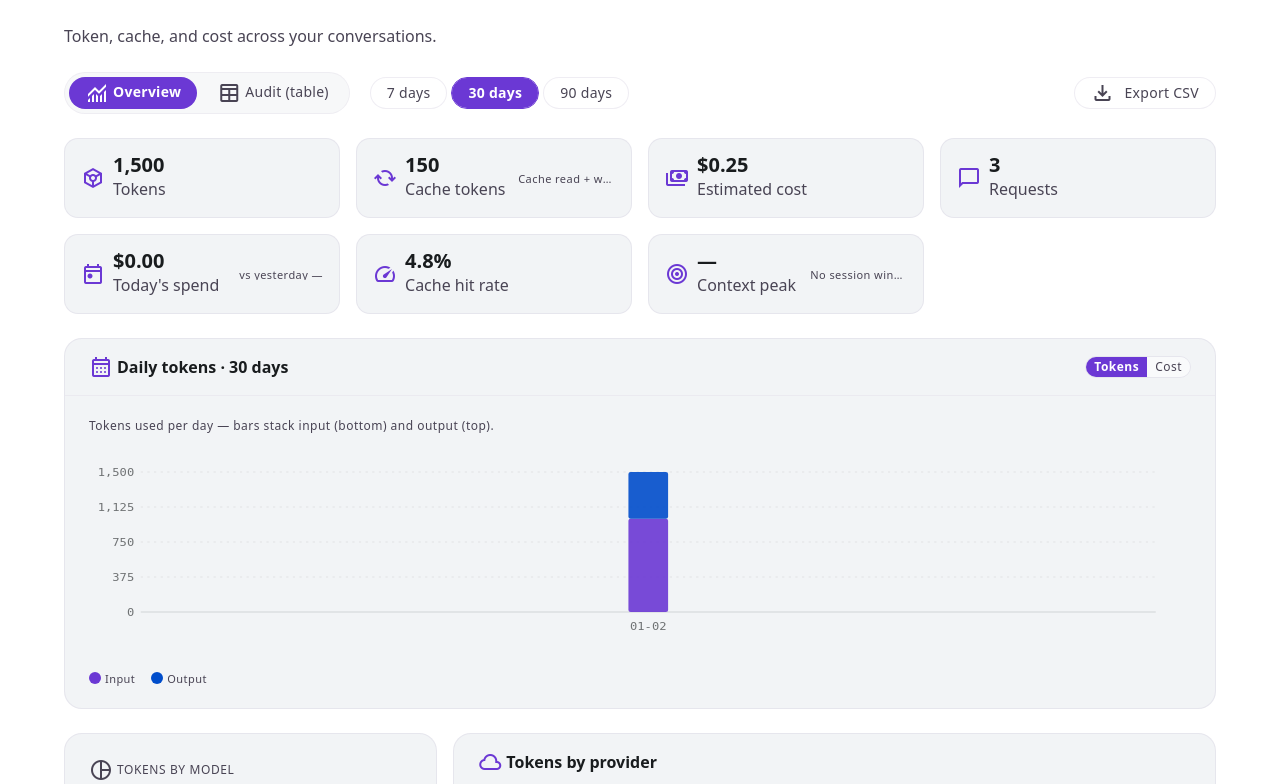
Test: Usage page › switches to audit tables when the toggle is pressed
The width and height of the screenshot is (1280, 784).
Click the button "Audit (table)": (273, 93) [201,77,345,109]
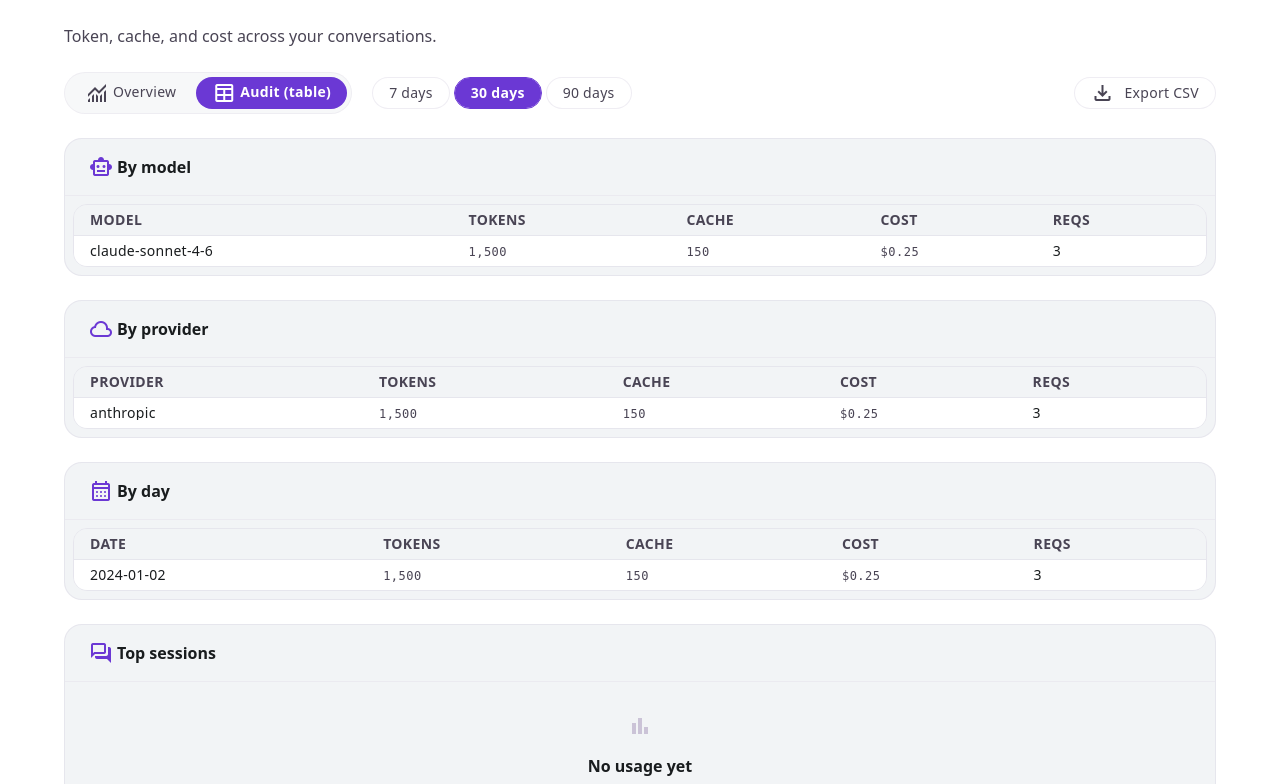
Check: the heading "By model" is shown, box [117,155,191,179]
Check: the heading "By day" is shown, box [117,479,170,503]
Check: the text "2024-01-02" is shown, box [90,565,166,584]
